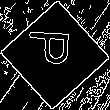P_E: (29, 35, 81, 75)
